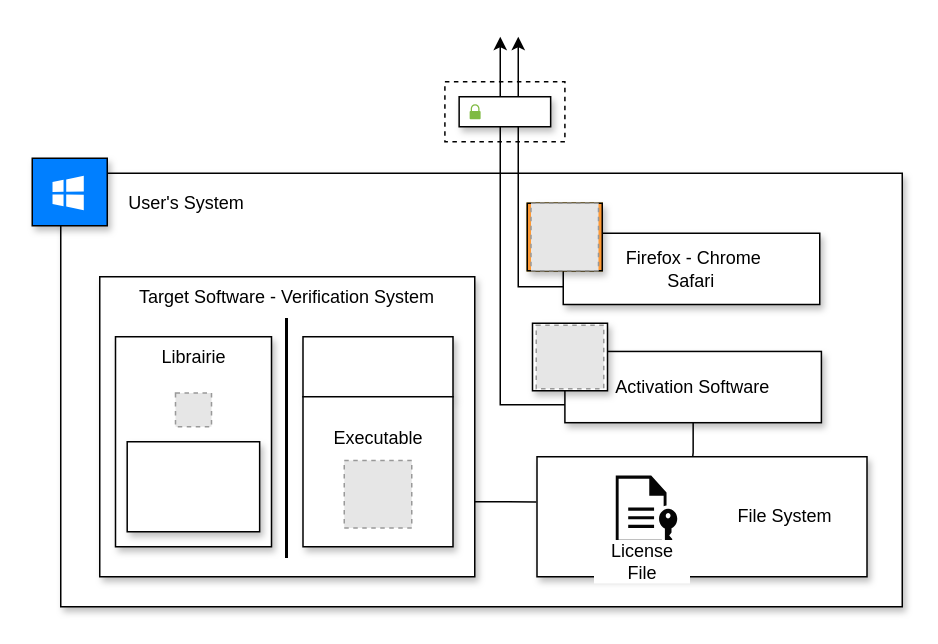
Image size: 938x644. Some labels were removed from this diagram. Grey dashed boxes stand in for pictures. Here are the shapes that lost their labels. From the top down, the centre of each, then its label:
the point at 506,113: HTTPS
the point at 379,368: Embedded license check
the point at 194,488: License check
